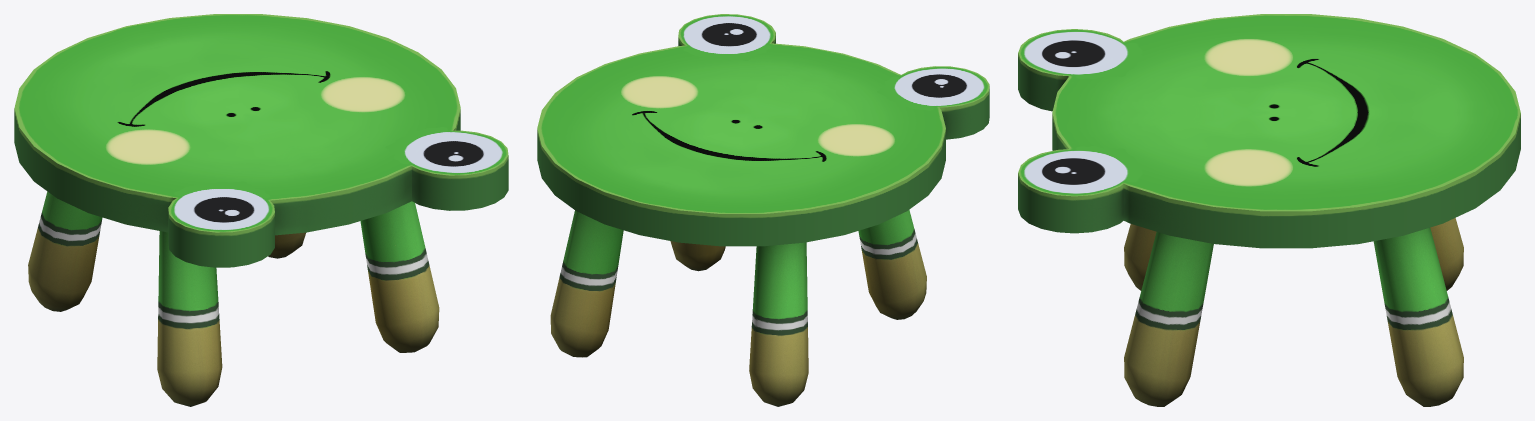
Rendered from Stool.fbx.
3 views of the same model, side by side, from view 1: azimuth 30°, elevation 25°; view 2: azimuth 150°, elevation 25°; view 3: azimuth 270°, elevation 25° (orthographic). The views are drawn at different scales.
Parts seen in each view (by area): view 1: 065; view 2: 065; view 3: 065.
Part boxes in pixels (x1=…): 065: x1=14, y1=14, x2=508, y2=406; 065: x1=537, y1=14, x2=989, y2=406; 065: x1=1018, y1=14, x2=1520, y2=406.
Size of the model in its own units: 56.58 by 31.5 by 60.9.
Materials: 1 (1 with a texture image).
